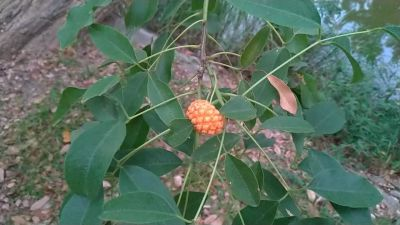eggs: (185, 99, 222, 135)
